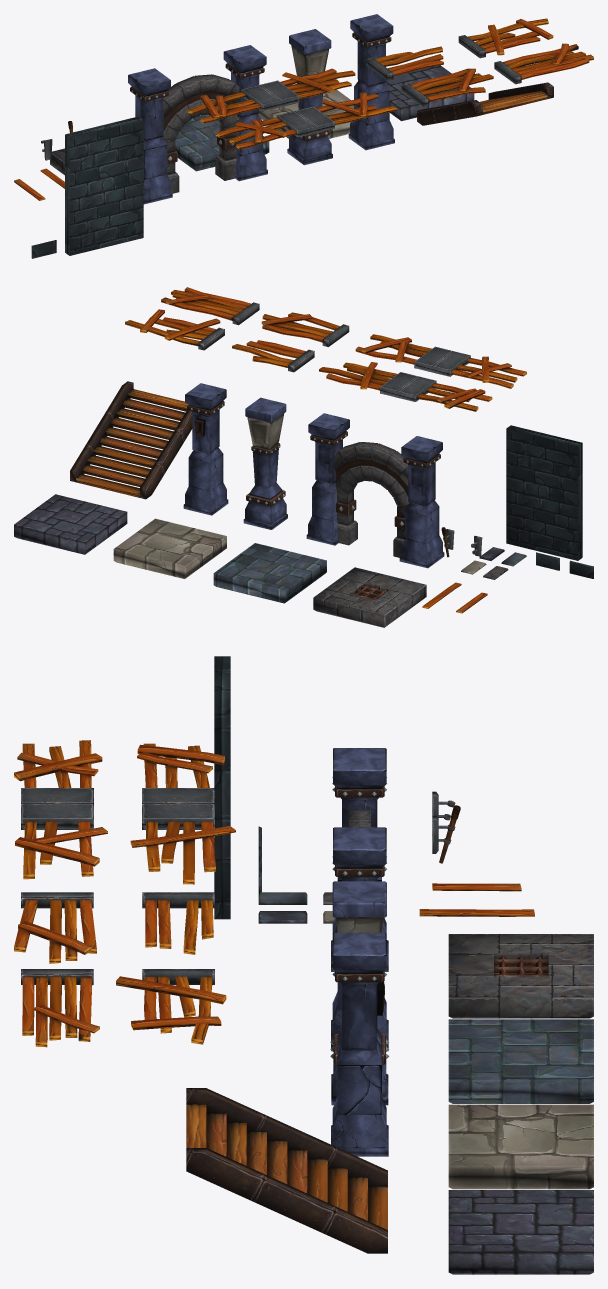
Rendered from Dungeon_Kit.obj.
The picture shows the model from 3 angles, top to bottom: view 1: azimuth 30°, elevation 25°; view 2: azimuth 150°, elevation 25°; view 3: azimuth 270°, elevation 25°; orthographic projection. The views are drawn at different scales.
Parts seen in each view (by area): view 1: Wall, Arch_Pillar, Arch_Mesh, Gate_Pillar_Mesh, Ceiling_Mesh_2, Ceiling_Mesh_1, Regular_Pillar, Stairs_Mesh, Floor_3, Floor_1, Ceiling_Mesh_6, Ceiling_Mesh_4 (+4 smaller); view 2: Wall, Stairs_Mesh, Arch_Pillar, Arch_Mesh, Floor_0, Floor_2, Floor_3, Floor_1, Gate_Pillar_Mesh, Regular_Pillar, Ceiling_Mesh_2, Ceiling_Mesh_1 (+4 smaller); view 3: Stairs_Mesh, Floor_2, Floor_3, Floor_0, Floor_1, Gate_Pillar_Mesh, Arch_Pillar, Ceiling_Mesh_2, Ceiling_Mesh_1, Ceiling_Mesh_6, Ceiling_Mesh_4, Wall (+5 smaller).
Part boxes in pixels (box(x1,y1,x2,y2)): Wall: box(65, 116, 143, 255); Arch_Pillar: box(128, 45, 267, 204); Arch_Mesh: box(162, 74, 239, 193); Gate_Pillar_Mesh: box(348, 14, 394, 150); Ceiling_Mesh_2: box(215, 92, 397, 149); Ceiling_Mesh_1: box(188, 68, 355, 123); Regular_Pillar: box(287, 29, 332, 165); Stairs_Mesh: box(417, 82, 553, 125); Floor_3: box(175, 114, 269, 171); Floor_1: box(358, 65, 474, 121); Ceiling_Mesh_6: box(458, 18, 553, 58); Ceiling_Mesh_4: box(494, 44, 593, 84); Wall: box(506, 425, 582, 560); Stairs_Mesh: box(70, 381, 192, 499); Arch_Pillar: box(306, 413, 444, 568); Arch_Mesh: box(334, 442, 408, 557); Floor_0: box(313, 567, 426, 627); Floor_2: box(113, 518, 226, 578); Floor_3: box(213, 543, 326, 603); Floor_1: box(14, 494, 127, 554); Gate_Pillar_Mesh: box(183, 383, 228, 515); Regular_Pillar: box(243, 397, 287, 529); Ceiling_Mesh_2: box(355, 334, 526, 388); Ceiling_Mesh_1: box(319, 362, 492, 411); Stairs_Mesh: box(186, 1088, 387, 1253); Floor_2: box(448, 1104, 593, 1189); Floor_3: box(448, 1019, 593, 1103); Floor_0: box(448, 934, 593, 1018); Floor_1: box(448, 1190, 593, 1274); Gate_Pillar_Mesh: box(331, 932, 388, 1156); Arch_Pillar: box(331, 748, 388, 1051); Ceiling_Mesh_2: box(14, 740, 102, 879); Ceiling_Mesh_1: box(137, 743, 224, 884); Ceiling_Mesh_6: box(116, 969, 226, 1044); Ceiling_Mesh_4: box(21, 969, 93, 1047); Wall: box(214, 656, 230, 919).
Bounding box in the file's own units: 244 × 65.42 × 144.
8 materials, 8 textured.
